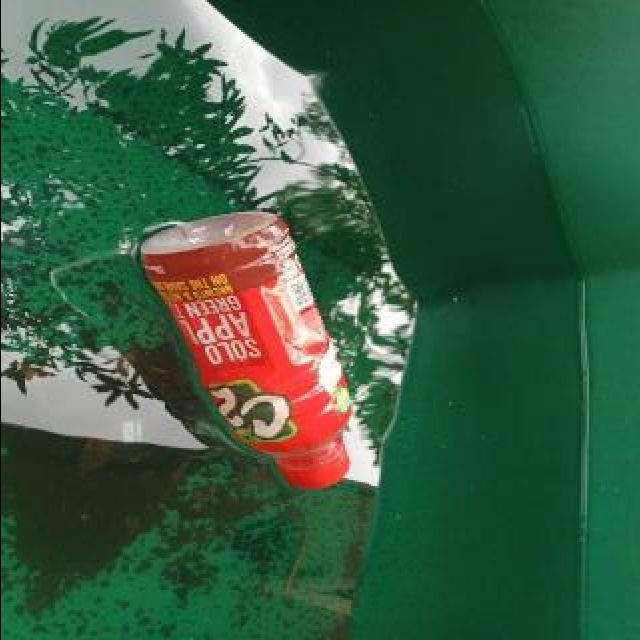Bottle: (136, 212, 352, 493)
